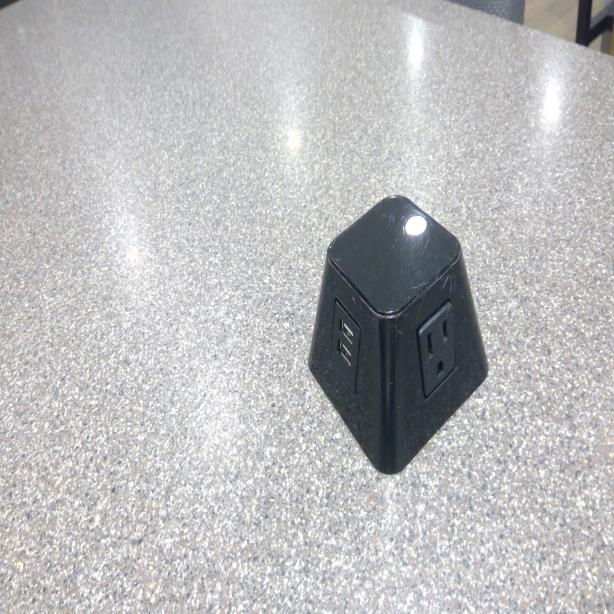typeb: (421, 305, 456, 385)
